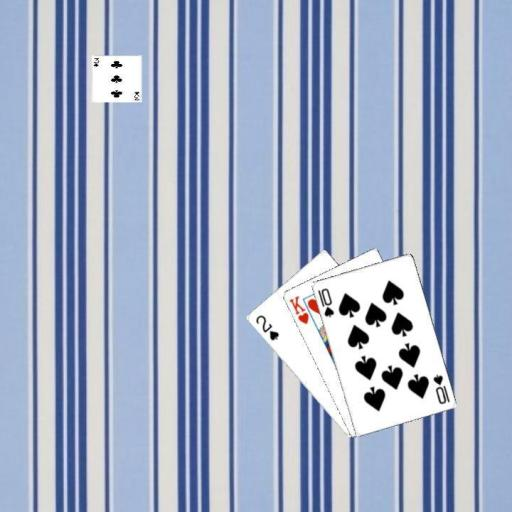card-corner: (286, 292, 310, 326), (253, 312, 280, 342), (429, 372, 451, 406), (314, 284, 335, 318)
